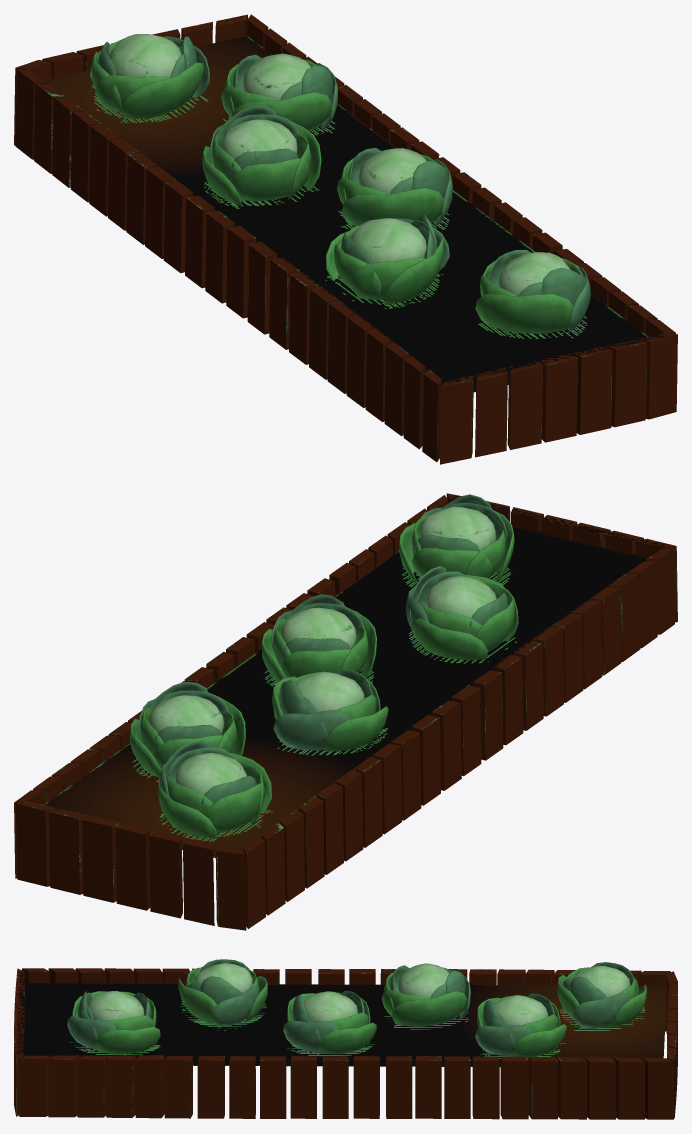
Rendered from cabbage.glb.
3 renders of one model, top to bottom at view 1: azimuth 30°, elevation 25°; view 2: azimuth 150°, elevation 25°; view 3: azimuth 270°, elevation 25°, orthographic. The views are drawn at different scales.
Visible parts, largest first — view 1: 2.001; view 2: 2.001; view 3: 2.001.
Part boxes in pixels (bbox=[...]): 2.001: bbox=[14, 14, 677, 464]; 2.001: bbox=[14, 493, 677, 930]; 2.001: bbox=[14, 959, 677, 1119].
Size of the model in its own units: 1.91 by 0.9476 by 5.92.
Materials: 1 (1 with a texture image).
